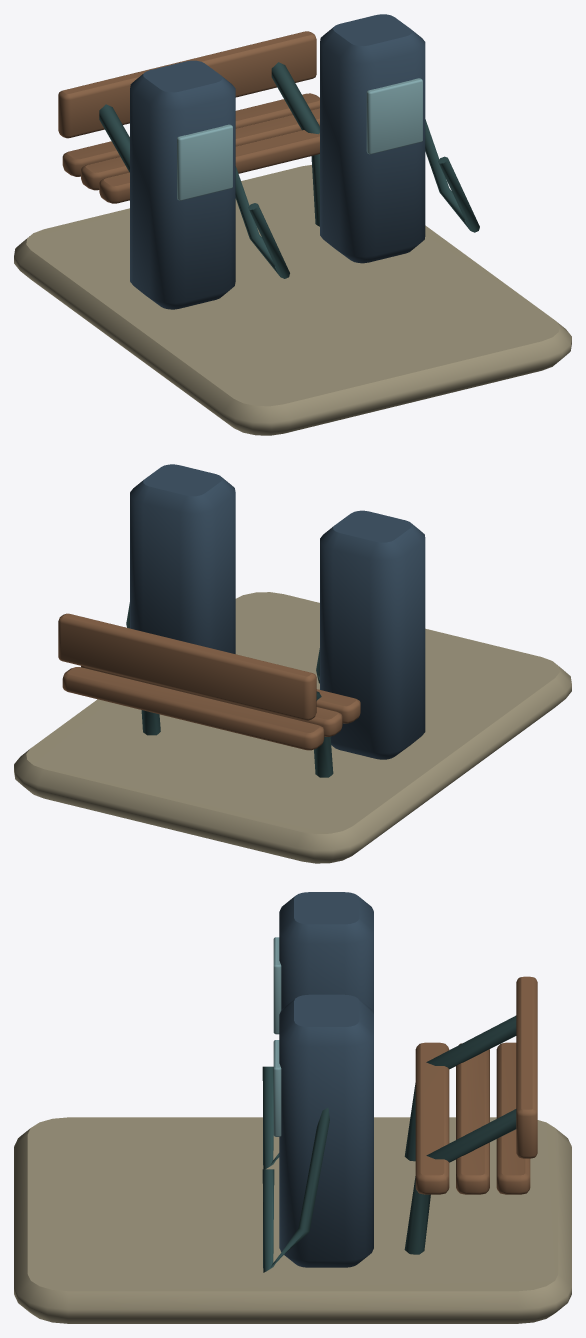
Rendered from luxury_fuel_1.glb.
3 renders of one model, top to bottom at view 1: azimuth 30°, elevation 25°; view 2: azimuth 150°, elevation 25°; view 3: azimuth 270°, elevation 25°, orthographic. The views are drawn at different scales.
Visible parts, largest first — view 1: LuxuryFuel1; view 2: LuxuryFuel1; view 3: LuxuryFuel1.
Boxes of the visible parts, x1=… form: LuxuryFuel1: x1=14, y1=14, x2=571, y2=435; LuxuryFuel1: x1=14, y1=464, x2=571, y2=863; LuxuryFuel1: x1=14, y1=892, x2=571, y2=1323.
Size of the model in its own units: 1.97 by 1.36 by 2.48.
